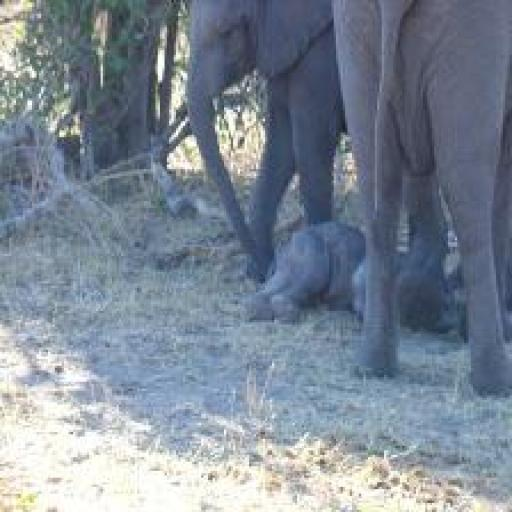Elephant: (329, 0, 509, 395), (183, 0, 350, 283)
